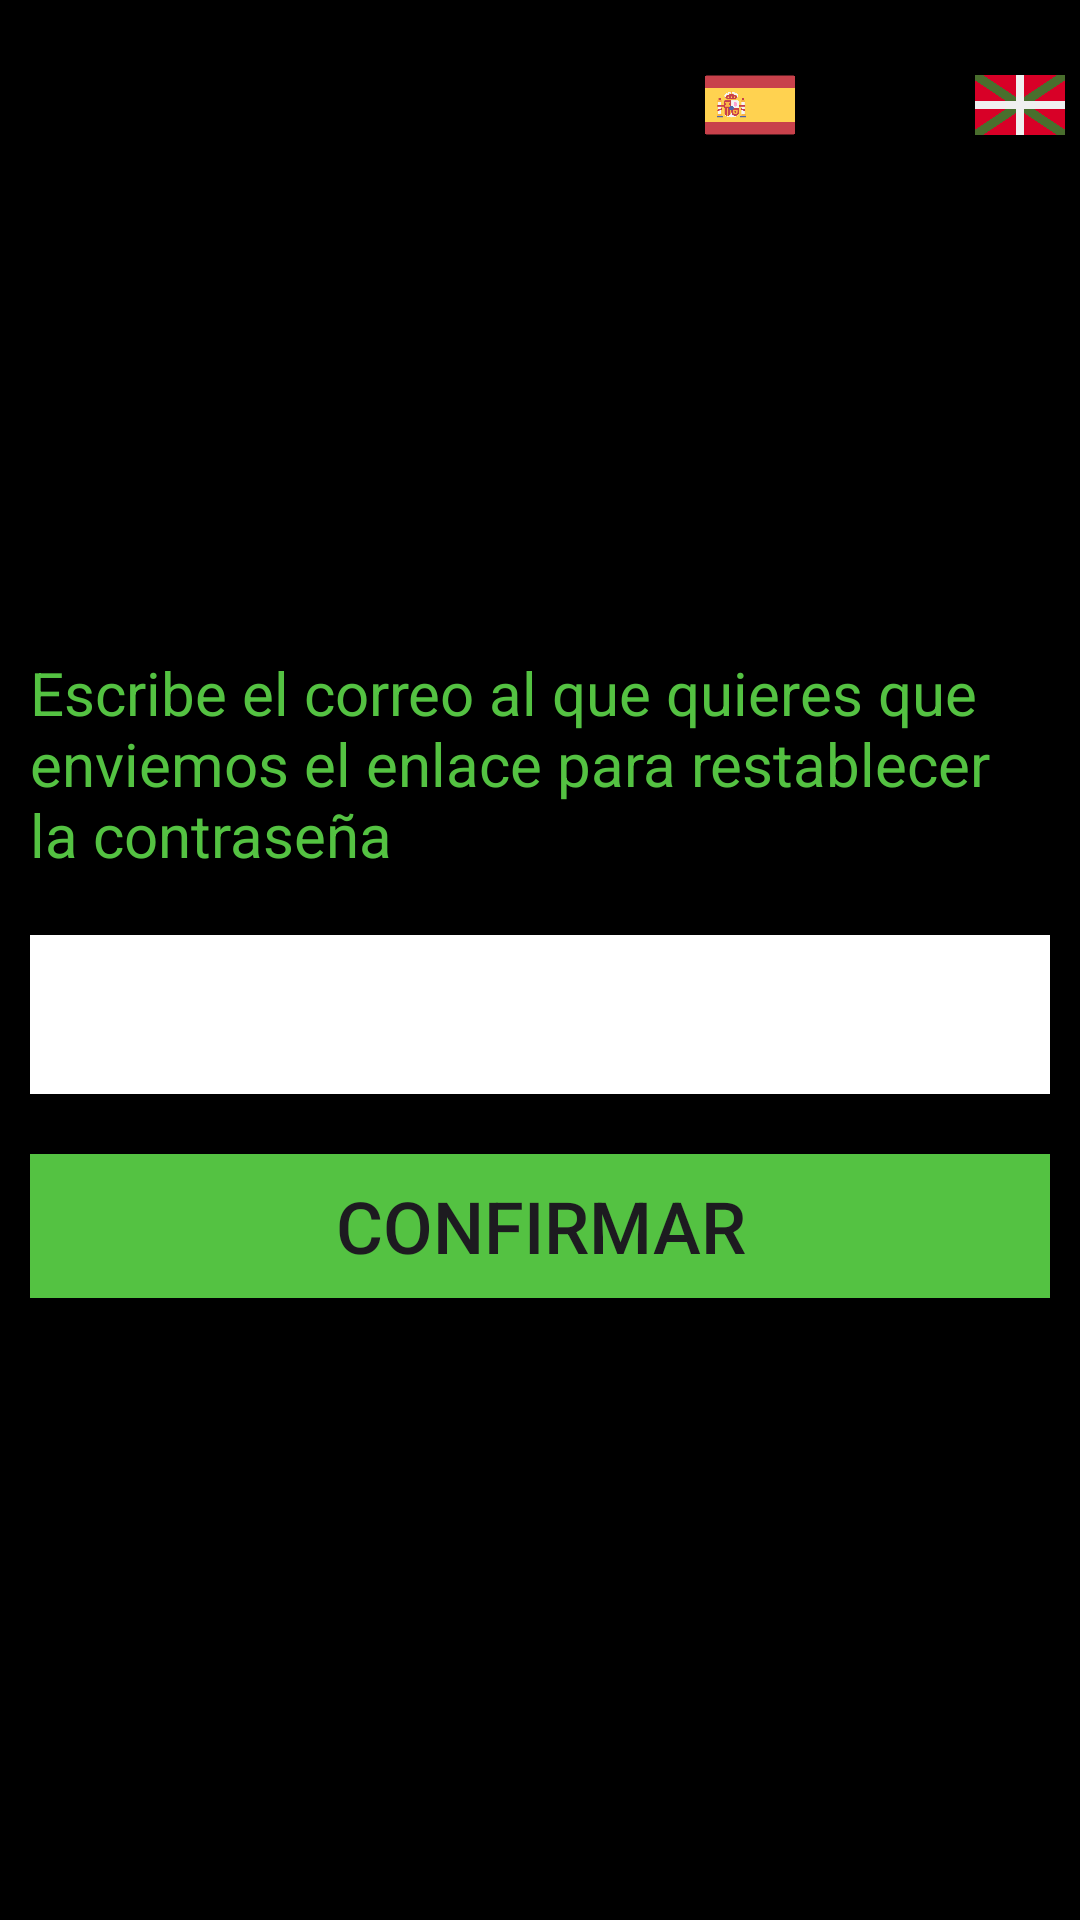

Icons on this 1080×1920 Android screen, each with its box as bbox(x1, y1, x2, y2):
espana: bbox(705, 75, 795, 135)
paisvasco: bbox(975, 75, 1065, 135)
